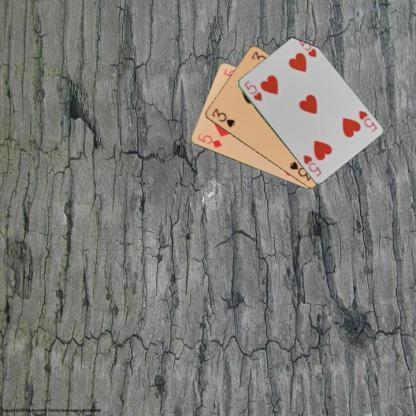3s: (208, 106, 236, 129)
5d: (194, 131, 224, 150)
5h: (356, 108, 378, 134), (241, 78, 263, 102)
